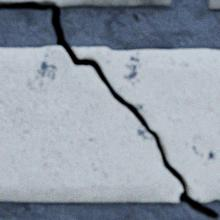brick: (207, 0, 219, 9)
broken_brick: (0, 46, 181, 201), (72, 47, 219, 201), (35, 0, 169, 6), (0, 0, 29, 1)
crack: (0, 0, 219, 219)
